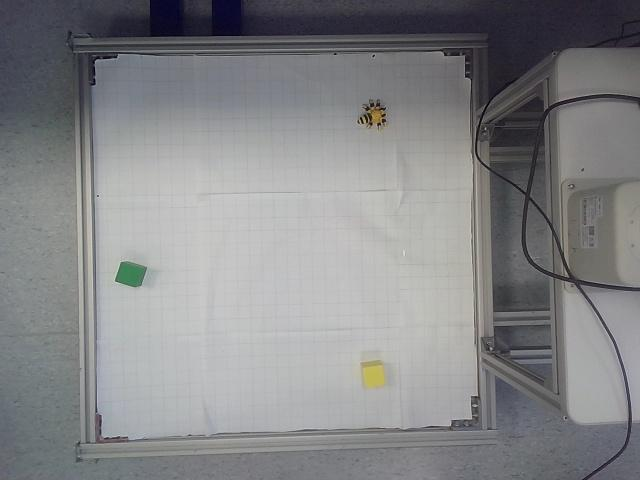frelon: (357, 99, 386, 130)
